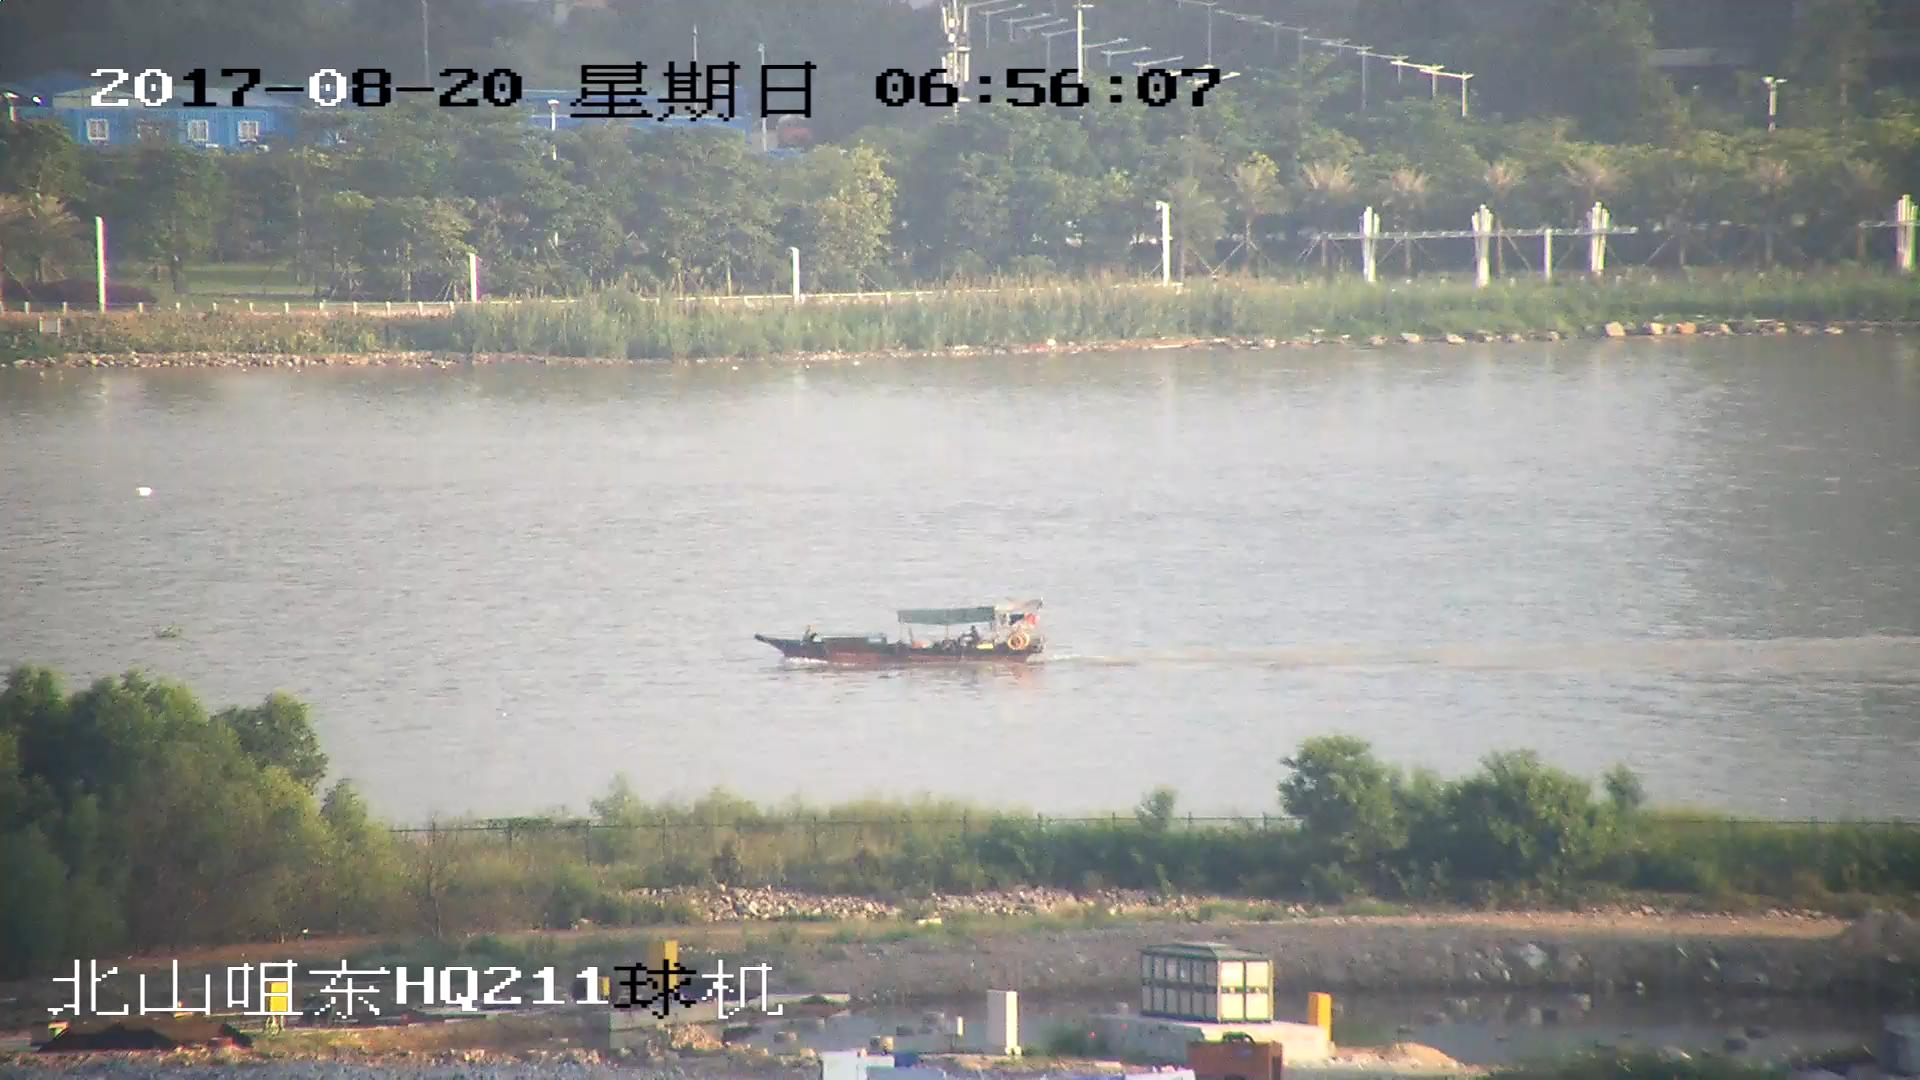fishing boat: (757, 603, 1046, 670)
